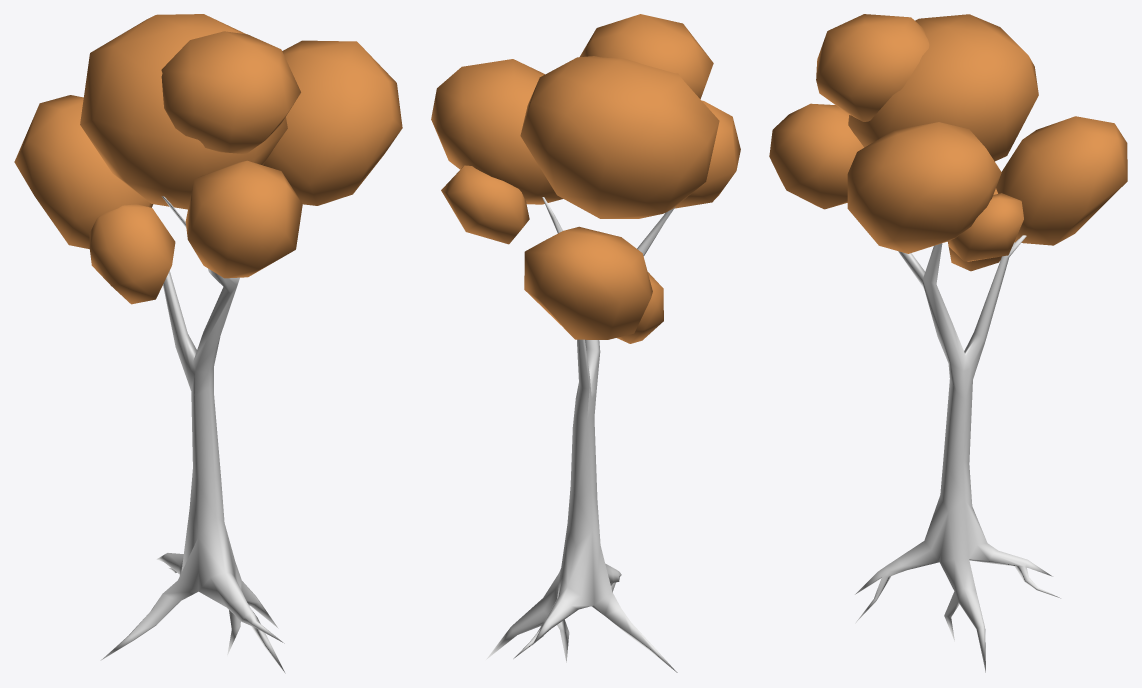
The model's file is Tree1.fbx.
3 views of the same model, side by side, from view 1: azimuth 30°, elevation 25°; view 2: azimuth 150°, elevation 25°; view 3: azimuth 270°, elevation 25° (orthographic). The views are drawn at different scales.
Parts seen in each view (by area): view 1: Sphere, Cylinder; view 2: Sphere, Cylinder; view 3: Sphere, Cylinder.
Boxes of the visible parts, bbox=[...] form: Sphere: bbox=[14, 14, 402, 304]; Cylinder: bbox=[100, 196, 285, 673]; Sphere: bbox=[431, 14, 740, 343]; Cylinder: bbox=[486, 197, 677, 672]; Sphere: bbox=[769, 14, 1127, 271]; Cylinder: bbox=[855, 235, 1060, 672].
Size of the model in its own units: 889 by 1925 by 1033.
